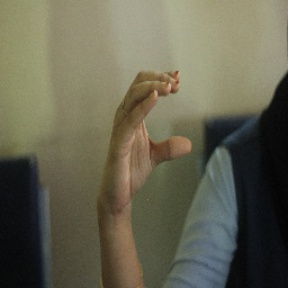C: (106, 61, 208, 170)
